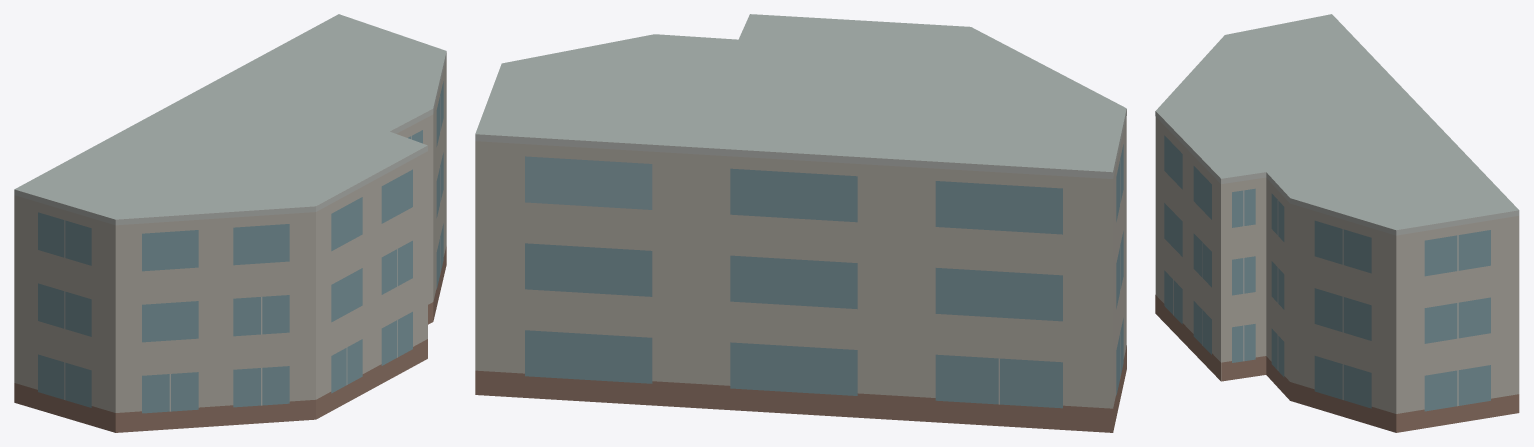
The model's file is survey-upis-32937411.glb.
The picture shows the model from 3 angles, left to right: view 1: azimuth 30°, elevation 25°; view 2: azimuth 150°, elevation 25°; view 3: azimuth 270°, elevation 25°; orthographic projection. The views are drawn at different scales.
Parts seen in each view (by area): view 1: survey-upis-32937411.tmp; view 2: survey-upis-32937411.tmp; view 3: survey-upis-32937411.tmp.
Part boxes in pixels (x1=…): survey-upis-32937411.tmp: x1=14, y1=14, x2=446, y2=432; survey-upis-32937411.tmp: x1=475, y1=14, x2=1126, y2=432; survey-upis-32937411.tmp: x1=1155, y1=14, x2=1519, y2=432.
Size of the model in its own units: 20.95 by 9.15 by 14.9.
